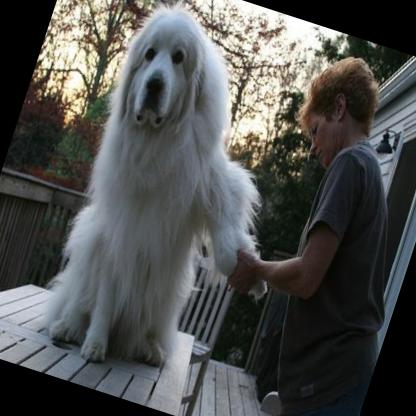Great_Pyrenees: (31, 0, 339, 404)
